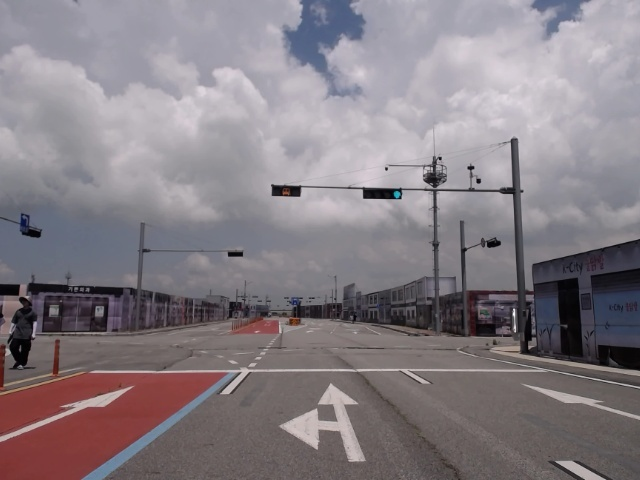straight_green_4: (365, 190, 404, 200)
